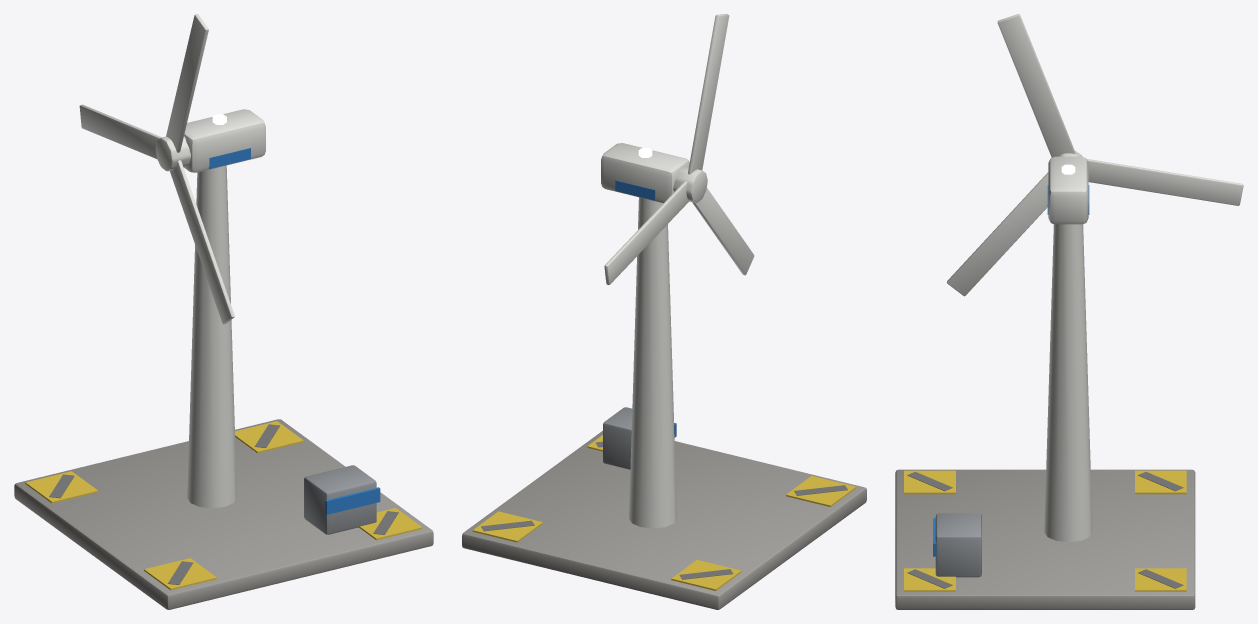
File: bld_wind.glb
The picture shows the model from 3 angles, left to right: view 1: azimuth 30°, elevation 25°; view 2: azimuth 150°, elevation 25°; view 3: azimuth 270°, elevation 25°; orthographic projection. The views are drawn at different scales.
Visible parts, largest first — view 1: foundation, structure, rotor, shell, fittings; view 2: foundation, structure, rotor, shell; view 3: foundation, structure, rotor, shell.
Boxes of the visible parts, box(x1,y1,x2,y2) form: foundation: box(14, 419, 433, 609); structure: box(187, 165, 376, 534); rotor: box(79, 14, 234, 324); shell: box(184, 109, 265, 172); fittings: box(212, 114, 380, 514); foundation: box(462, 431, 866, 609); structure: box(603, 197, 676, 528); rotor: box(604, 14, 754, 284); shell: box(601, 143, 689, 203); foundation: box(895, 469, 1195, 609); structure: box(935, 224, 1092, 577); rotor: box(947, 14, 1243, 296); shell: box(1047, 156, 1089, 224).
Bounding box in the file's own units: 5.2 × 9.83 × 6.03.
